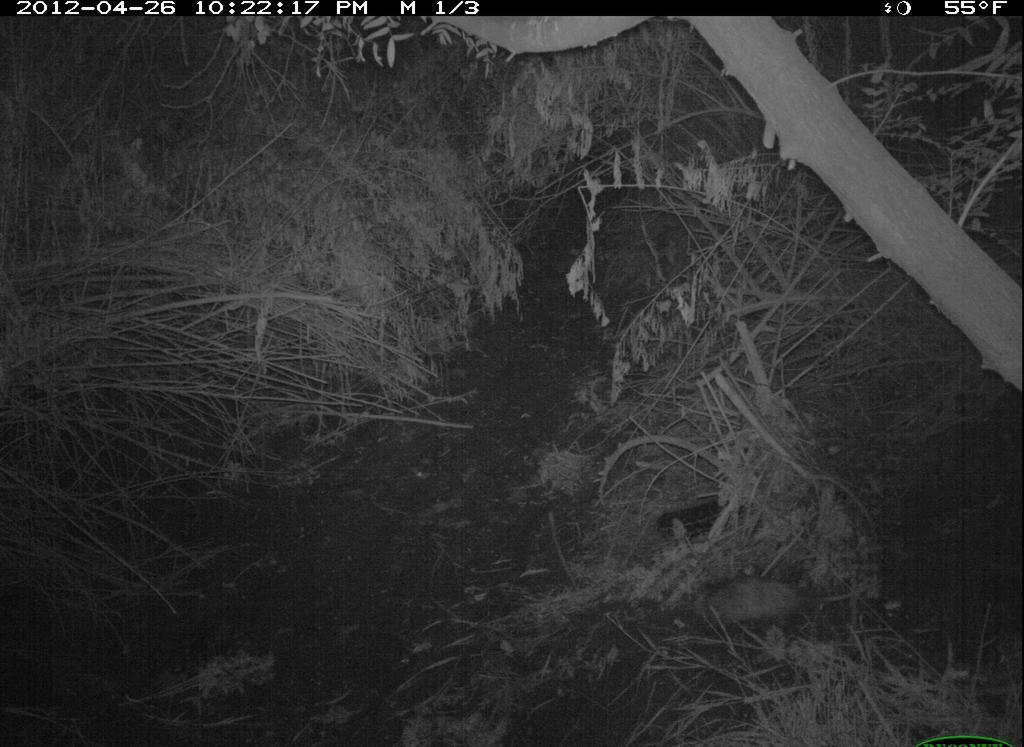opossum: (676, 565, 872, 648)
